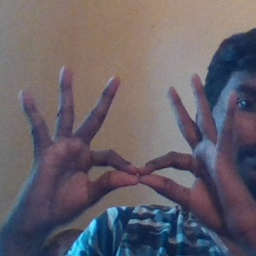B: (80, 107, 204, 205)
